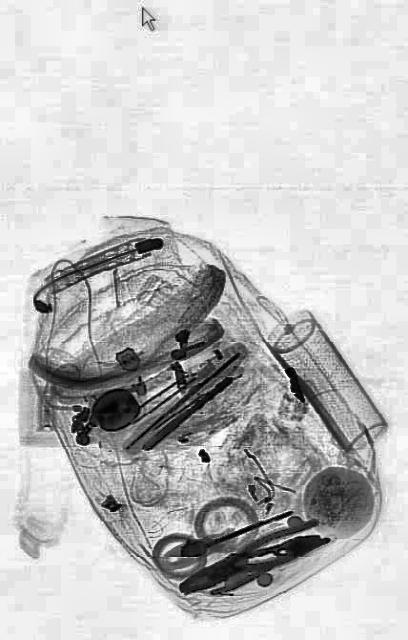Pliers: (174, 513, 322, 607), (205, 522, 323, 600)
